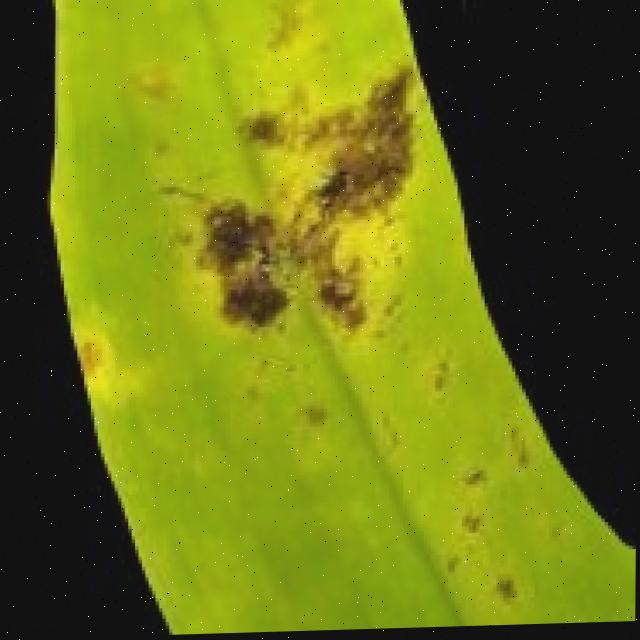mite: (365, 0, 640, 562), (442, 457, 526, 612), (217, 272, 287, 329), (286, 392, 339, 438), (418, 351, 457, 401), (483, 569, 525, 608), (453, 458, 491, 494), (452, 503, 487, 542), (490, 576, 518, 604), (297, 403, 328, 428), (456, 510, 484, 535), (460, 465, 484, 490)
sunburn: (154, 63, 424, 348)
